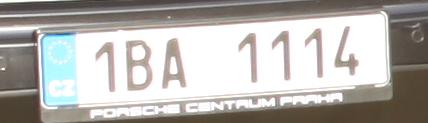1: (94, 44, 116, 92), (272, 32, 293, 81), (238, 34, 258, 82), (305, 29, 324, 77)
4: (335, 26, 359, 74)
A: (162, 40, 186, 89)
B: (125, 40, 152, 91)
